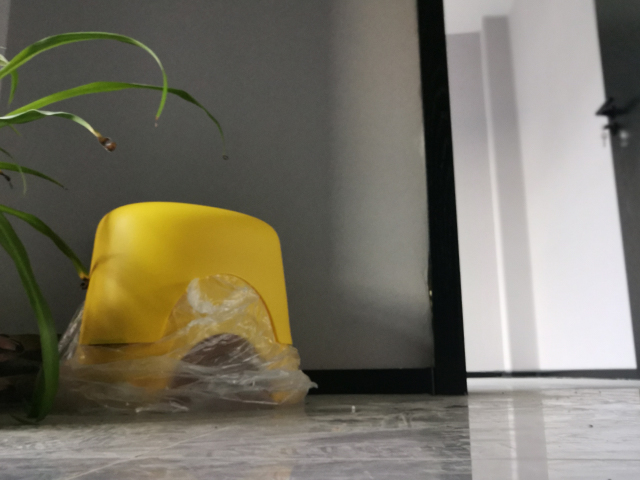stool: (71, 197, 307, 408)
